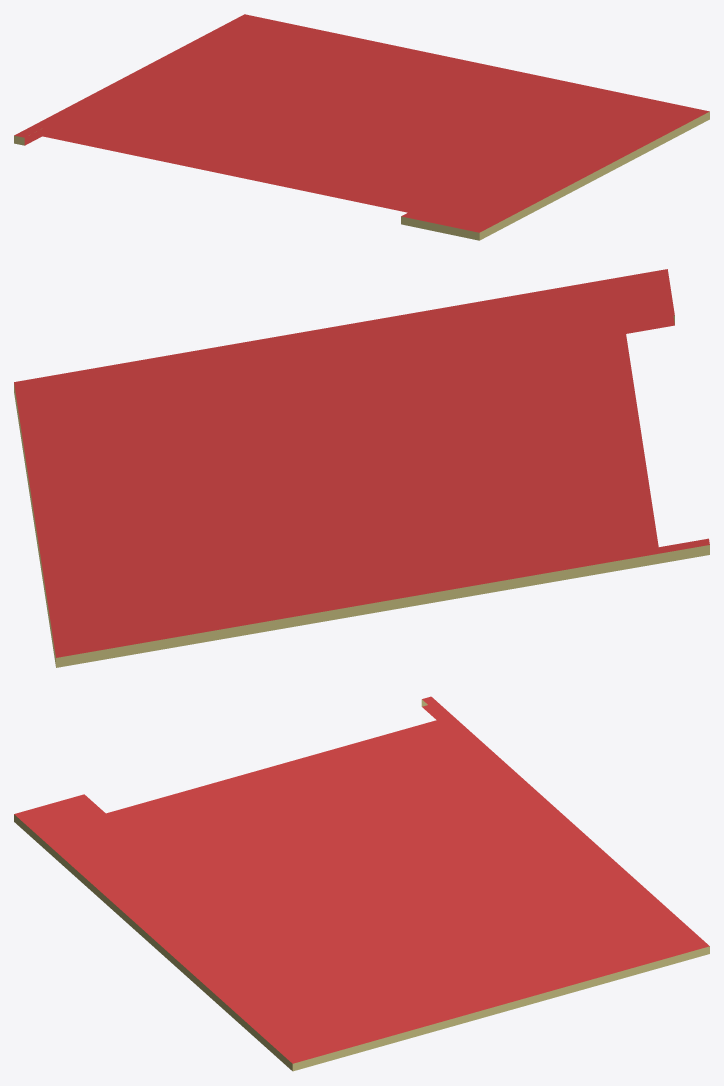
The picture shows the model from 3 angles, top to bottom: view 1: azimuth 30°, elevation 25°; view 2: azimuth 150°, elevation 25°; view 3: azimuth 270°, elevation 25°; orthographic projection. The views are drawn at different scales.
Bounding box in the file's own units: 8.23 × 8.22 × 1.05.
